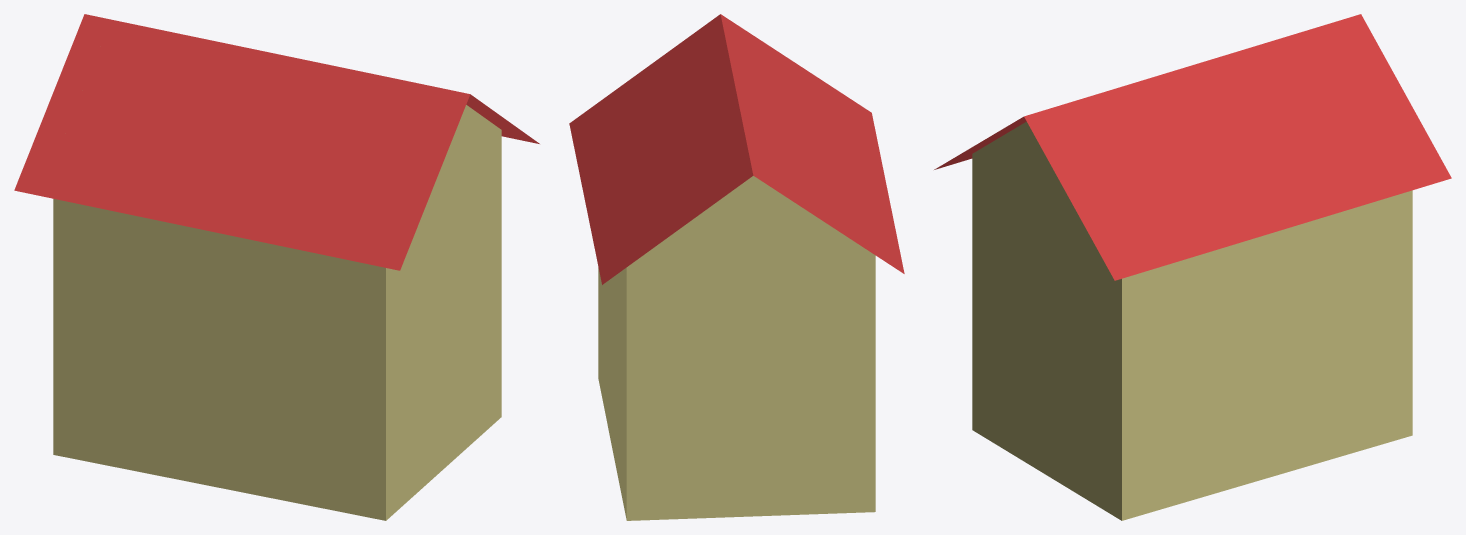
The picture shows the model from 3 angles, left to right: view 1: azimuth 30°, elevation 25°; view 2: azimuth 150°, elevation 25°; view 3: azimuth 270°, elevation 25°; orthographic projection. The views are drawn at different scales.
Size of the model in its own units: 8.78 by 9.19 by 7.22.
